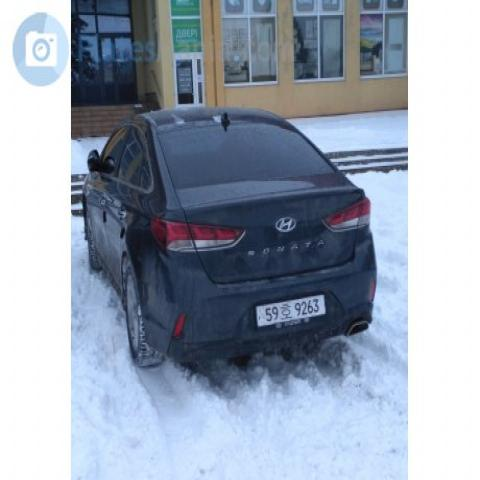LP: (255, 286, 333, 333)
